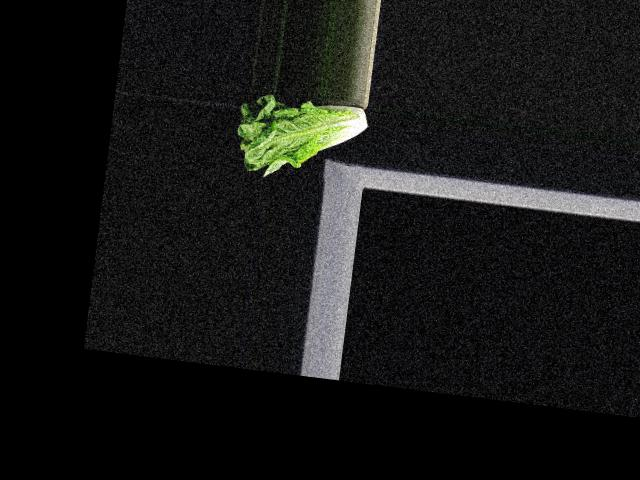lettuce: (230, 90, 371, 187)
